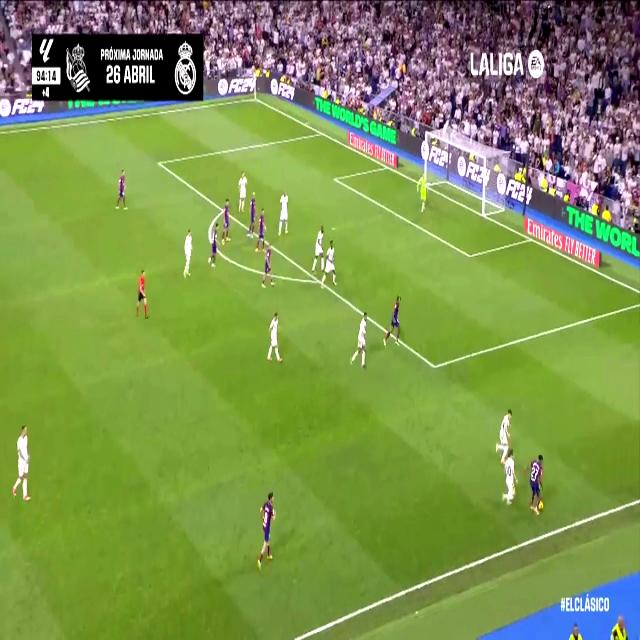bigarea_bottom_inner: (429, 354, 439, 378)
bigarea_top_inner: (156, 155, 162, 170)
bigarea_top_outter: (318, 126, 324, 138)
bottom_arc_area_intersection: (314, 272, 324, 288)
smallarea_top_inner: (333, 174, 337, 184)
top_arc_area_intersection: (221, 203, 226, 217)
